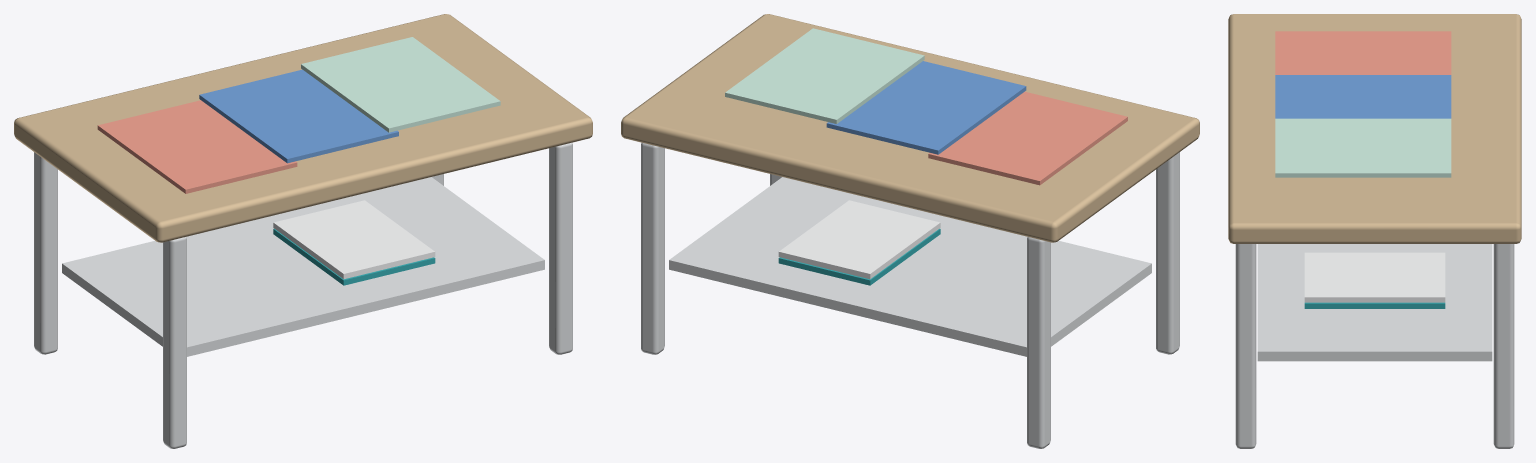
The picture shows the model from 3 angles, left to right: view 1: azimuth 30°, elevation 25°; view 2: azimuth 150°, elevation 25°; view 3: azimuth 270°, elevation 25°; orthographic projection.
Parts seen in each view (by area): view 1: low-table-with-magazines; view 2: low-table-with-magazines; view 3: low-table-with-magazines.
Part boxes in pixels (left/top/right/bottom): low-table-with-magazines: left=14, top=14, right=592, bottom=448; low-table-with-magazines: left=621, top=14, right=1199, bottom=448; low-table-with-magazines: left=1228, top=14, right=1521, bottom=448.
Bounding box in the file's own units: 0.86 × 0.472 × 0.5.
